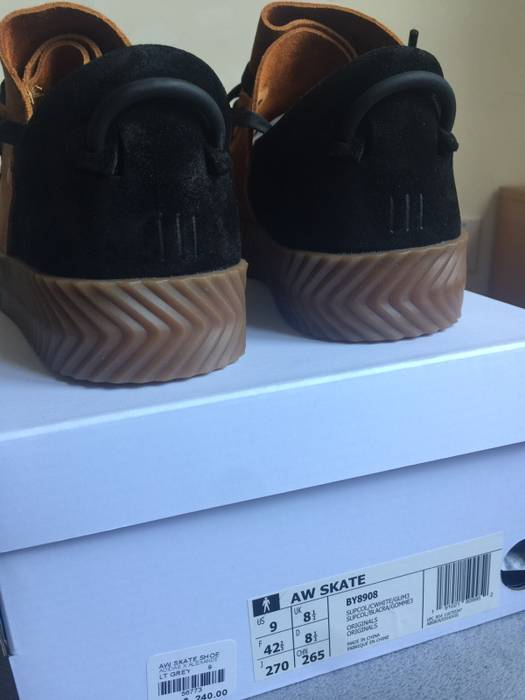adidas AW Skate Sand: (6, 1, 276, 369), (238, 1, 503, 367)
